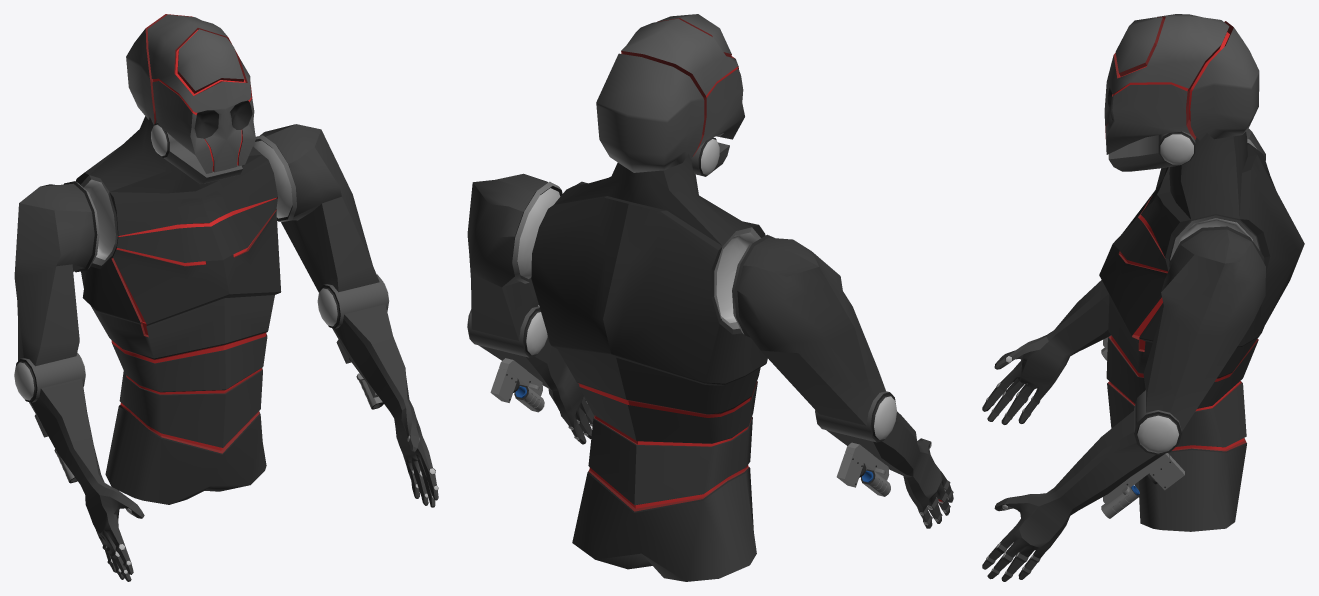
File: player_vecordy_asset.fbx
3 views of the same model, side by side, from view 1: azimuth 30°, elevation 25°; view 2: azimuth 150°, elevation 25°; view 3: azimuth 270°, elevation 25° (orthographic). The views are drawn at different scales.
Visible parts, largest first — view 1: body, right_arm, left_arm; view 2: body, right_arm, left_arm; view 3: body, left_arm, right_arm.
Boxes of the visible parts, bbox=[...] form: body: bbox=[75, 14, 281, 504]; right_arm: bbox=[14, 181, 144, 581]; left_arm: bbox=[253, 124, 438, 507]; body: bbox=[531, 14, 767, 581]; right_arm: bbox=[732, 234, 953, 528]; left_arm: bbox=[467, 173, 593, 444]; body: bbox=[1099, 14, 1304, 531]; left_arm: bbox=[982, 226, 1265, 581]; right_arm: bbox=[982, 128, 1265, 424].
Bounding box in the file's own units: 9.84 × 12.15 × 7.15.
